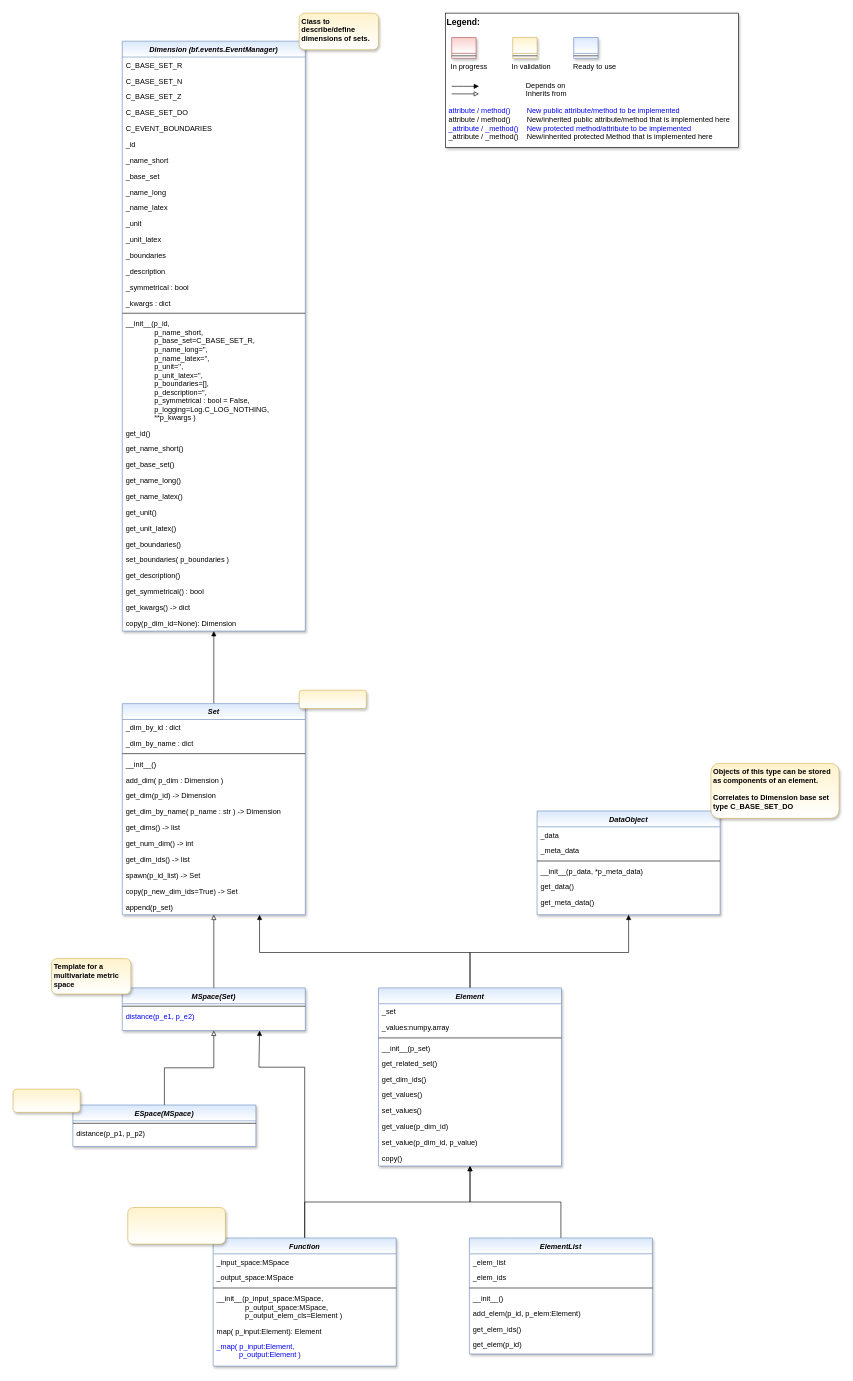
The diagram is 853 pixels wide and 1381 high, and some of its shapes have lost their labels. Each missing label, with the centre of its shape:
Multivariate Euclidian space: the point at 47,1101
Multivariate Set: the point at 333,700
Template for Bi-Multivariate mathematical functions: the point at 177,1226
